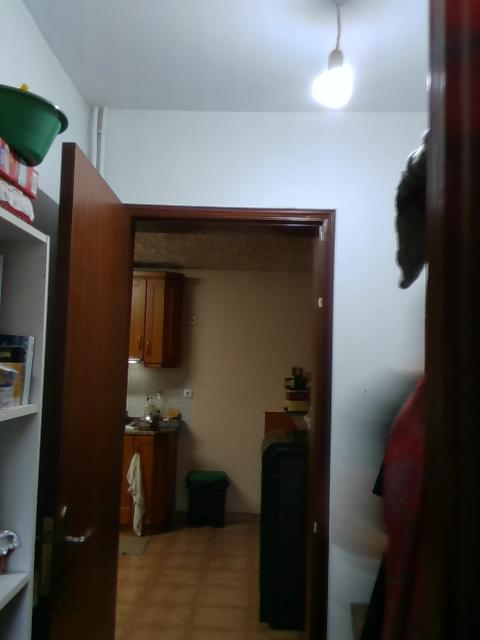open_door: (70, 205, 336, 638)
